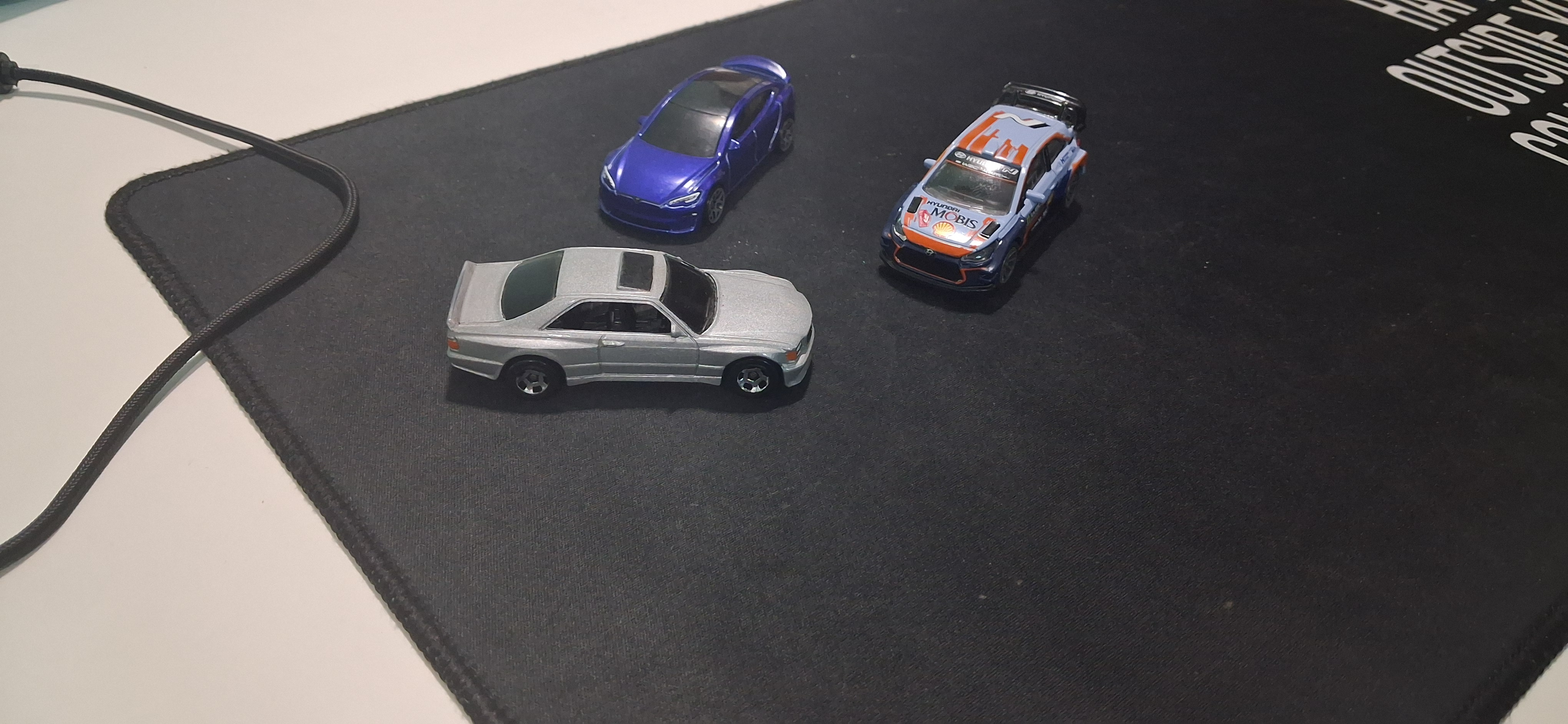Hyundai_I20_WRC: (869, 66, 1106, 331)
Mercedes_Benz_560_SEC_AMG: (437, 226, 838, 450)
Tesla_Model_S_Plaid: (542, 26, 804, 257)
